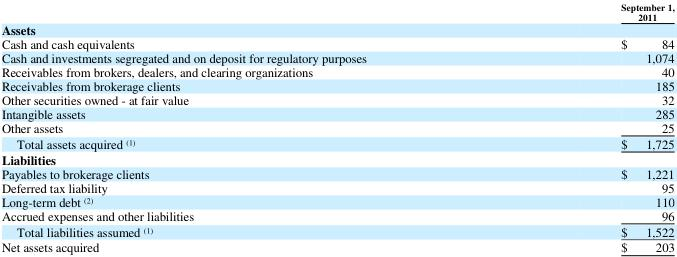table: (0, 0, 673, 254)
table column: (0, 0, 493, 254), (493, 0, 673, 254)
table column header: (0, 0, 673, 22)
table projected row header: (0, 151, 673, 166), (0, 22, 673, 36)
table row: (0, 0, 673, 22), (0, 135, 673, 151), (0, 223, 673, 239), (0, 120, 673, 135), (0, 151, 673, 166), (0, 208, 673, 223), (0, 239, 673, 254), (0, 22, 673, 36), (0, 36, 673, 50), (0, 50, 673, 64), (0, 64, 673, 78), (0, 78, 673, 92), (0, 92, 673, 106), (0, 106, 673, 120), (0, 166, 673, 180), (0, 180, 673, 194), (0, 194, 673, 208)
